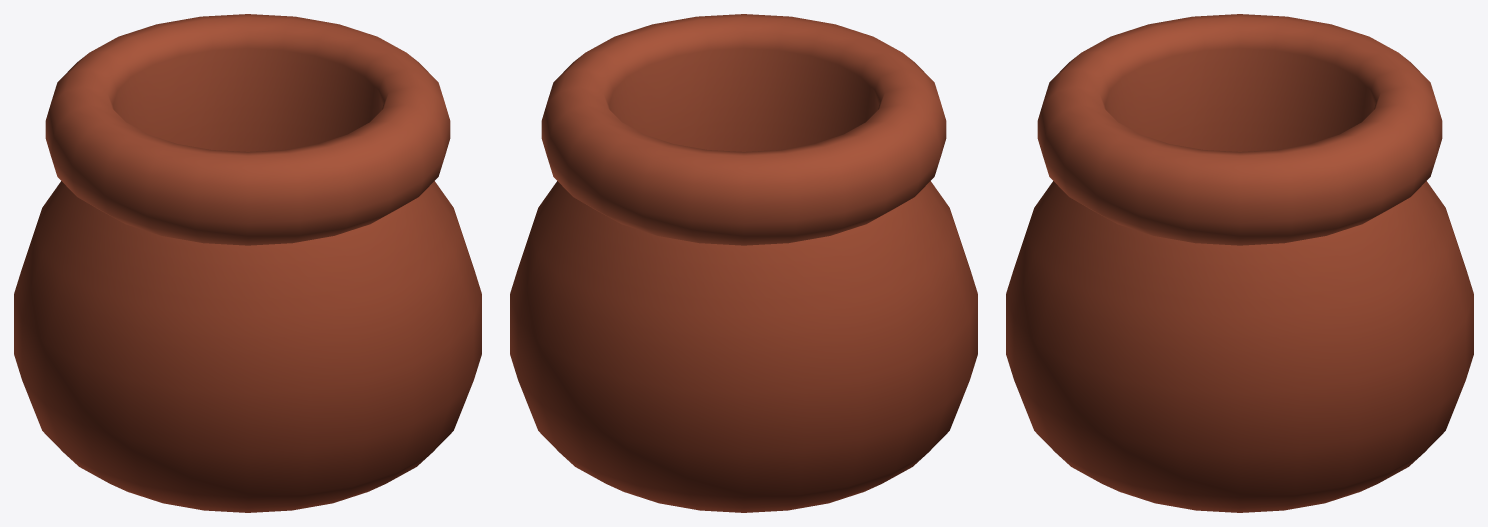
Rendered from Bowl_02.glb.
3 views of the same model, side by side, from view 1: azimuth 30°, elevation 25°; view 2: azimuth 150°, elevation 25°; view 3: azimuth 270°, elevation 25° (orthographic).
Parts seen in each view (by area): view 1: Bowl_02; view 2: Bowl_02; view 3: Bowl_02.
Part boxes in pixels (x1,y1,x2,y2): Bowl_02: (14, 14, 481, 512); Bowl_02: (510, 14, 977, 512); Bowl_02: (1006, 14, 1473, 512).
Size of the model in its own units: 0.1739 by 0.148 by 0.1739.
1 material, 1 textured.
